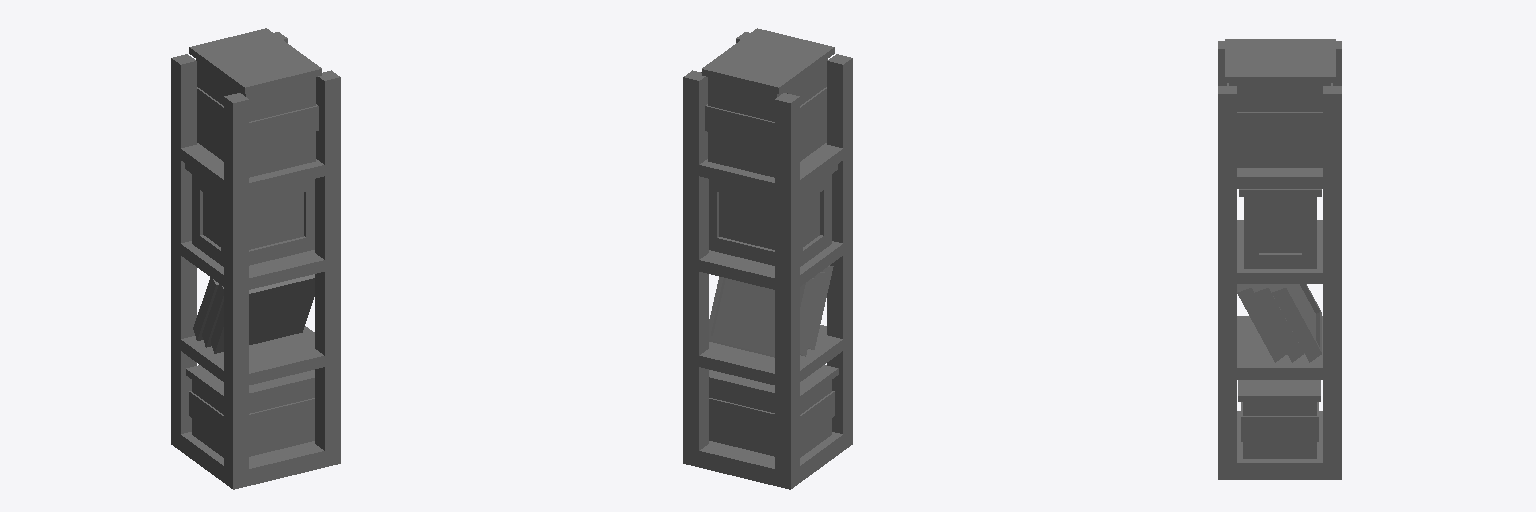
Rendered from shelf_v8_corner.obj.
3 renders of one model, left to right at view 1: azimuth 30°, elevation 25°; view 2: azimuth 150°, elevation 25°; view 3: azimuth 270°, elevation 25°, orthographic.
Parts seen in each view (by area): view 1: shelf_v8_corner_tester; view 2: shelf_v8_corner_tester; view 3: shelf_v8_corner_tester.
Part boxes in pixels (x1,y1,x2,y2): shelf_v8_corner_tester: (171, 28, 340, 489); shelf_v8_corner_tester: (683, 28, 852, 489); shelf_v8_corner_tester: (1218, 39, 1341, 479).
Bounding box in the file's own units: 4 × 14.11 × 4.01.